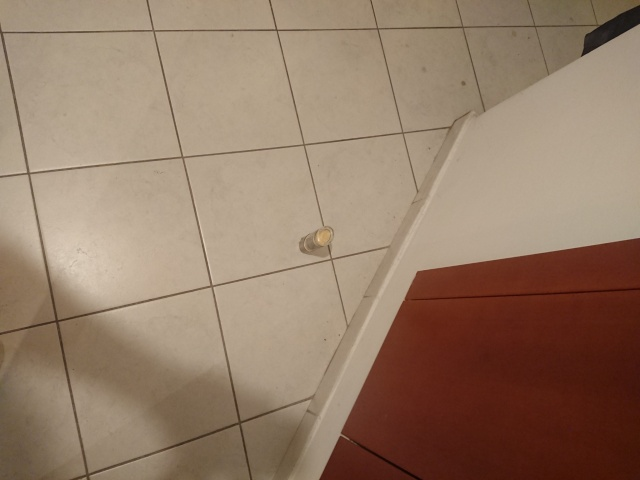Kotanyi Garlic Granules 70g: (297, 225, 336, 255)
